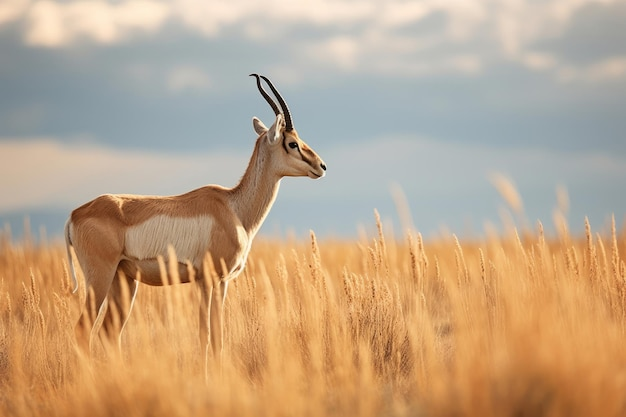saiga: (55, 70, 333, 353)
